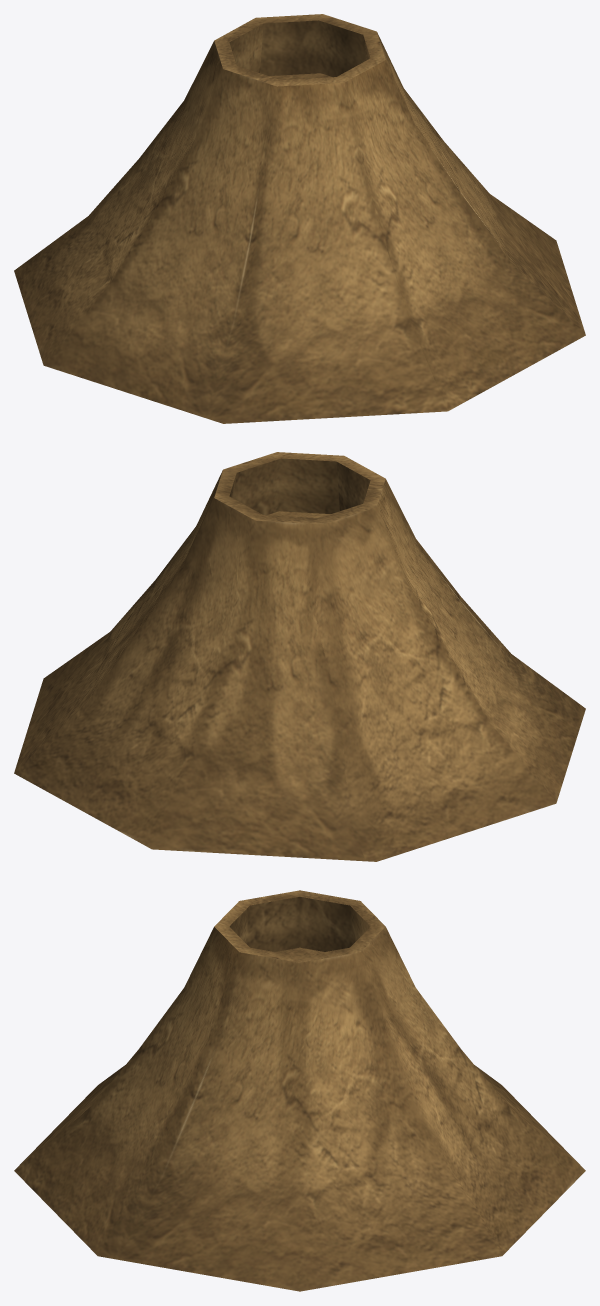
File: mountain.fbx
3 renders of one model, top to bottom at view 1: azimuth 30°, elevation 25°; view 2: azimuth 150°, elevation 25°; view 3: azimuth 270°, elevation 25°, orthographic. The views are drawn at different scales.
Visible parts, largest first — view 1: mountain; view 2: mountain; view 3: mountain.
Part boxes in pixels (x1,y1,x2,y2): mountain: (14,14,585,423); mountain: (14,452,585,861); mountain: (14,890,585,1291).
Size of the model in its own units: 781 by 368 by 781.
